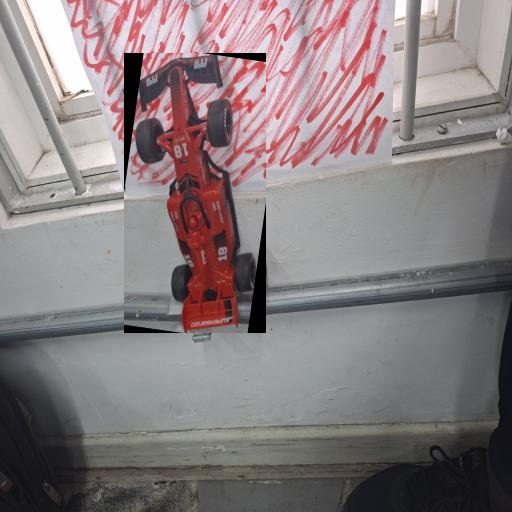carro: (124, 54, 266, 332)
